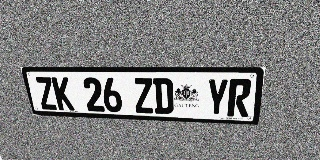2: (82, 77, 105, 112)
6: (101, 78, 123, 112)
D: (153, 78, 174, 114)
K: (51, 77, 75, 111)
R: (227, 79, 252, 117)
Y: (206, 79, 229, 116)
Z: (34, 77, 58, 110), (133, 78, 154, 114)
